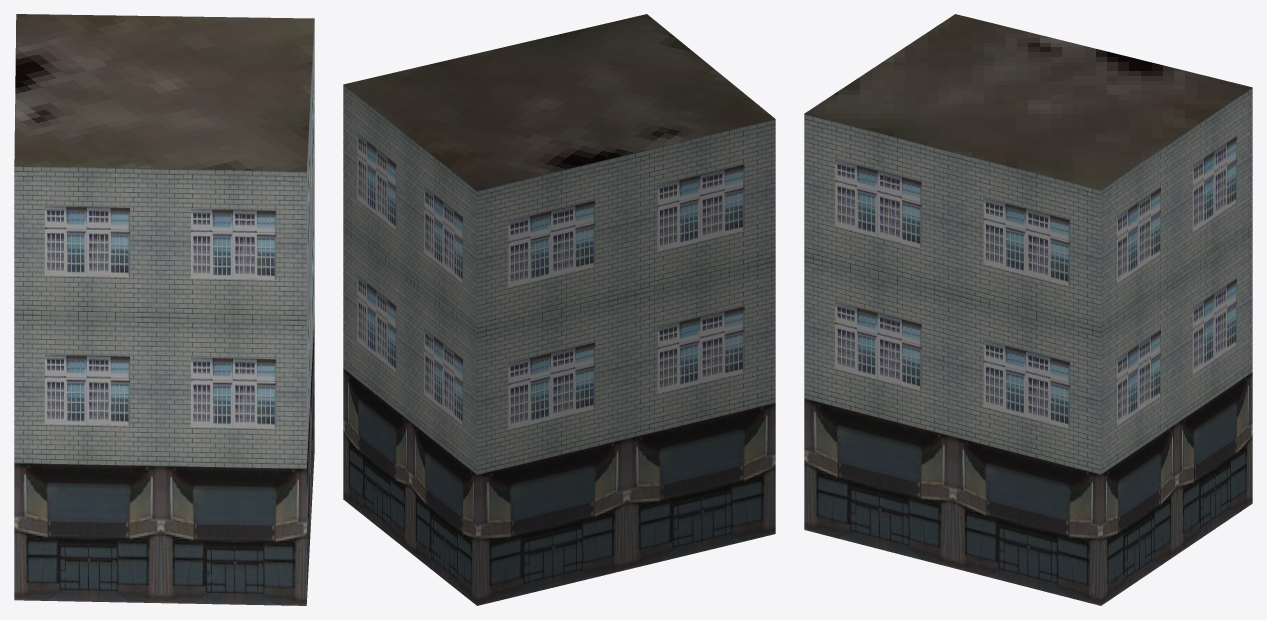
The picture shows the model from 3 angles, left to right: view 1: azimuth 30°, elevation 25°; view 2: azimuth 150°, elevation 25°; view 3: azimuth 270°, elevation 25°; orthographic projection. The views are drawn at different scales.
Visible parts, largest first — view 1: SketchUp (×5); view 2: SketchUp (×5); view 3: SketchUp (×5).
Part boxes in pixels (x1,y1,x2,y2): SketchUp (×5): (14, 14, 314, 605); SketchUp (×5): (343, 14, 775, 605); SketchUp (×5): (804, 14, 1252, 605).
Size of the model in its own units: 9.47 by 10.21 by 10.45.
Materials: 3 (3 with a texture image).
